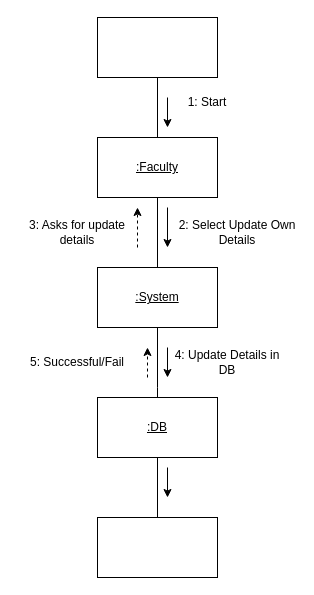
This 314x595 diagram has some shape labels left out. The shapes that lost their labels are listed below. From the top down, each one's centre as x and y in pixels, then its label:
the point at 157,47: Initialization
the point at 157,547: End
